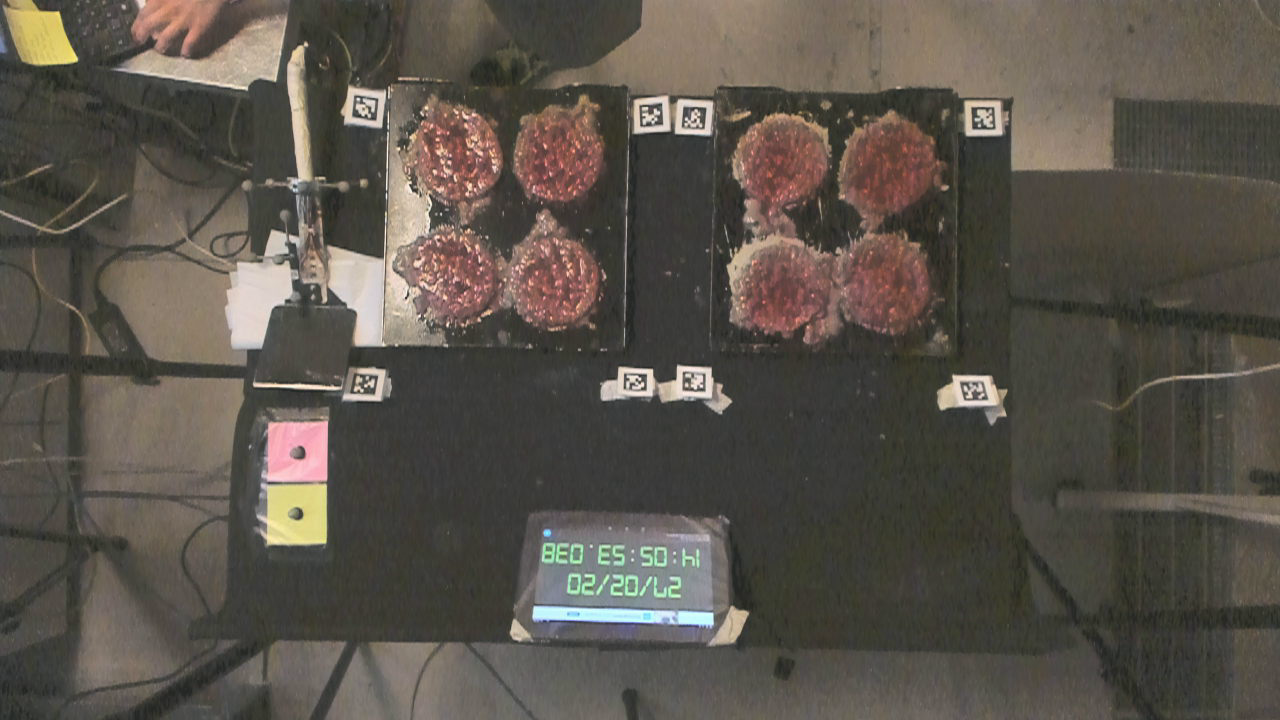hamburger: (734, 113, 829, 209), (841, 119, 936, 215), (416, 100, 505, 202), (739, 241, 825, 333), (514, 233, 597, 328), (516, 115, 603, 203), (417, 228, 498, 321), (844, 241, 931, 324)
marker: (268, 422, 329, 481)
